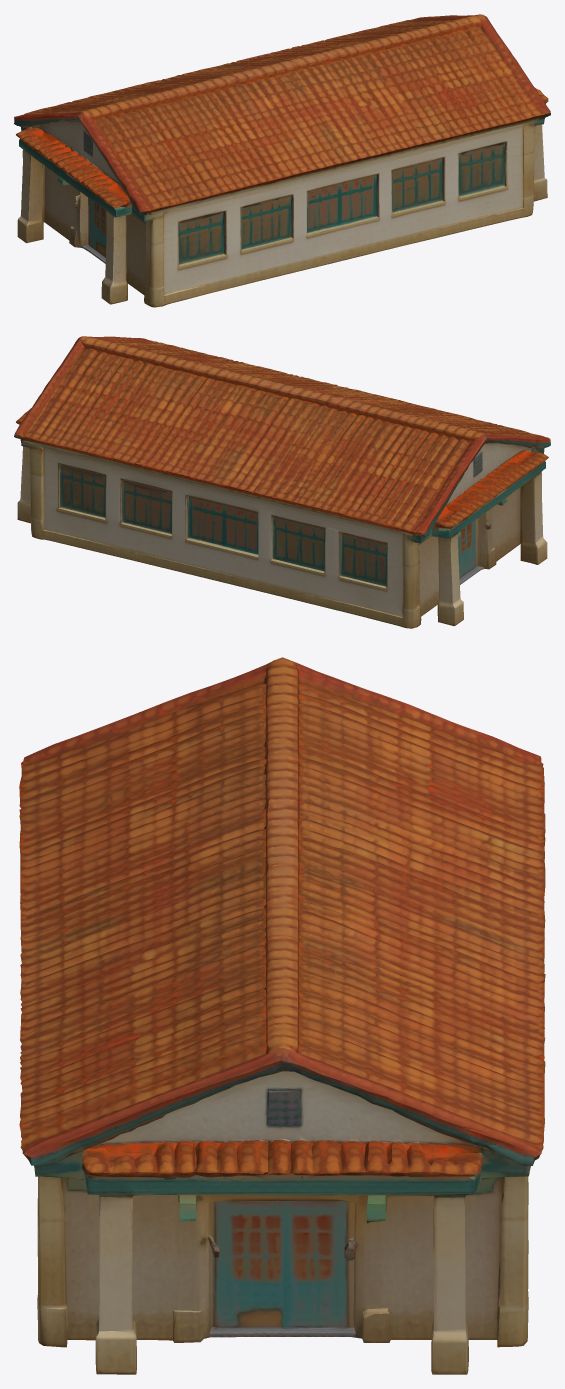
Rendered from bld_kibbutz_dining_hall.glb.
3 renders of one model, top to bottom at view 1: azimuth 30°, elevation 25°; view 2: azimuth 150°, elevation 25°; view 3: azimuth 270°, elevation 25°, orthographic. The views are drawn at different scales.
Visible parts, largest first — view 1: geometry_0; view 2: geometry_0; view 3: geometry_0.
Boxes of the visible parts, box(x1,y1,x2,y2) form: geometry_0: box(14, 14, 550, 307); geometry_0: box(14, 336, 550, 628); geometry_0: box(19, 657, 545, 1374).
Bounding box in the file's own units: 26.72 × 8.98 × 13.87.
Materials: 1 (1 with a texture image).
